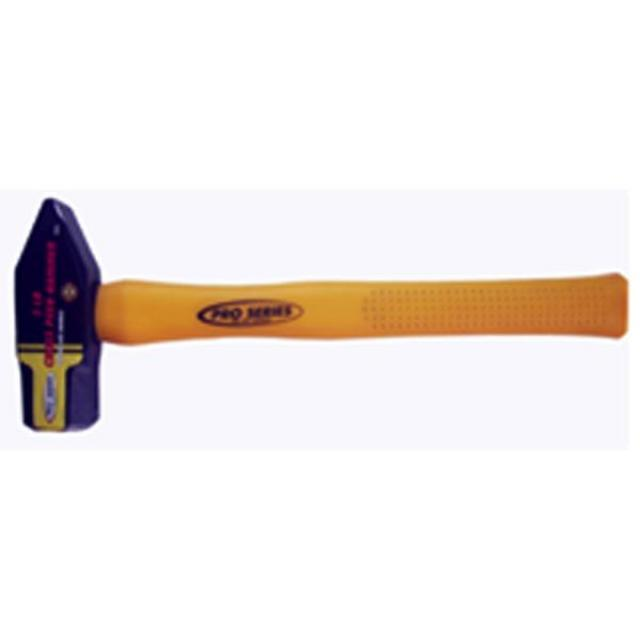hammer: (0, 175, 640, 448)
